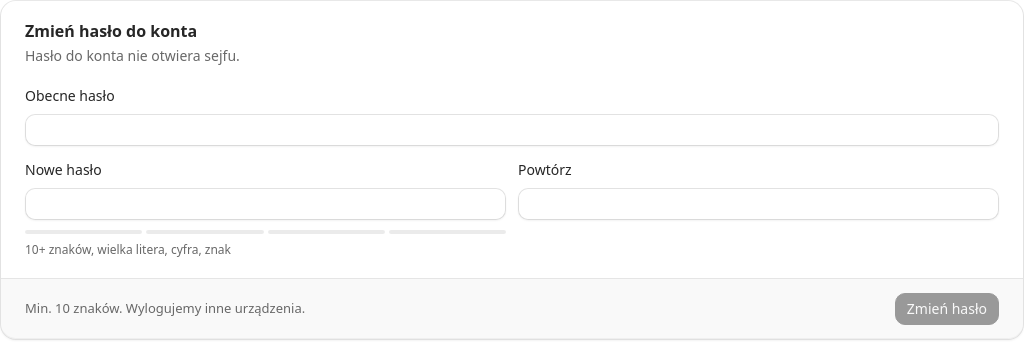
PasswordCard — konto z hasłem › siła „Abcdefghij” → Średnie hasło (2 pasków)
This screenshot has width=1024, height=357.
Type "Abcdefghij" into the password field labelled "Nowe hasło" at (266, 204), box [25,188,506,220]
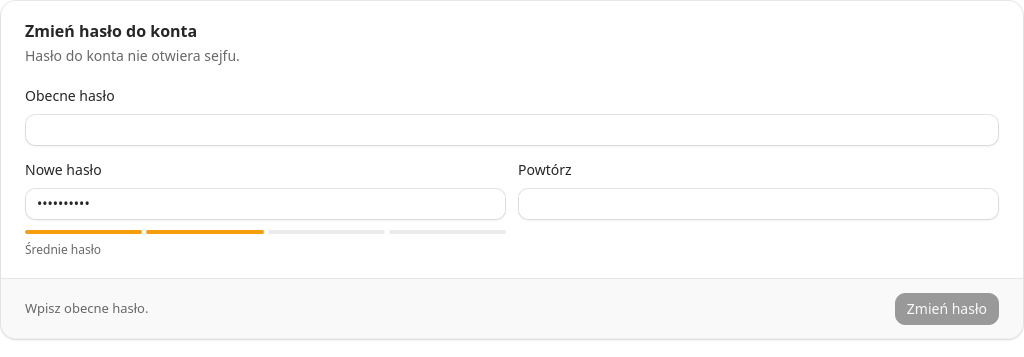
Expected: the text "Średnie hasło" is shown, [25,241,101,258]
